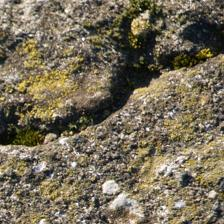Crack: (2, 18, 219, 135)
